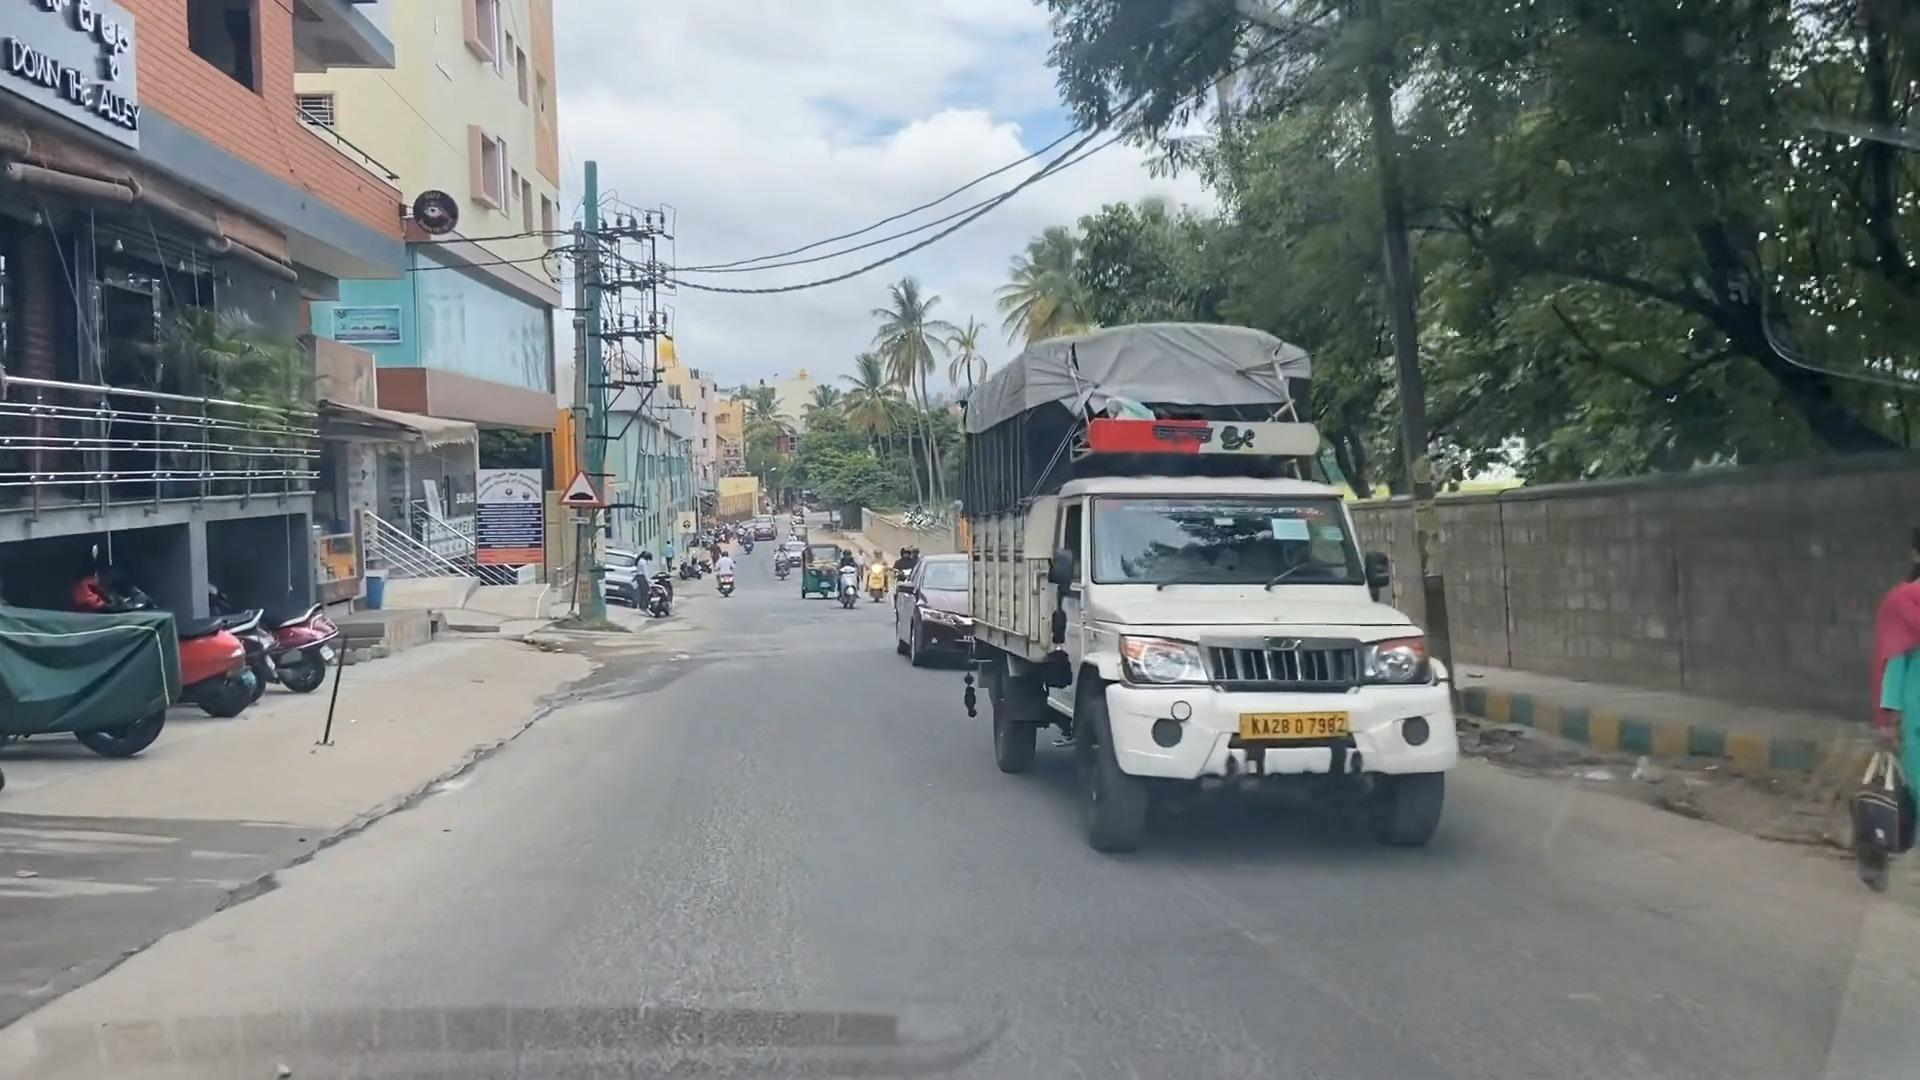HMV: (943, 316, 1489, 880)
